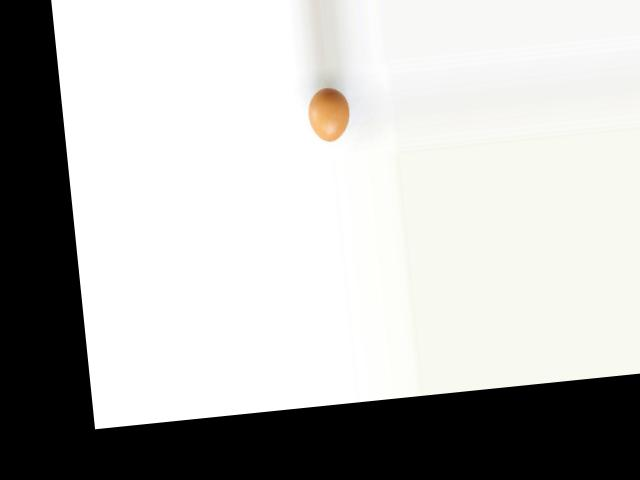egg: (306, 84, 353, 143)
